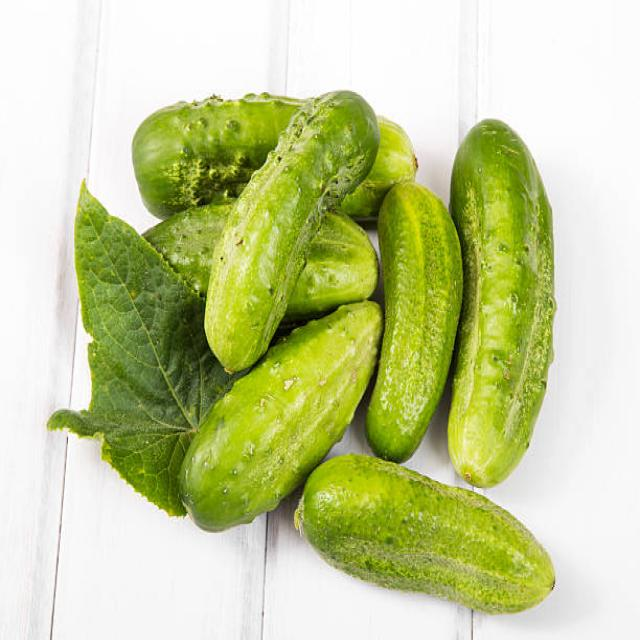cucumber: (205, 88, 379, 374), (178, 300, 384, 532), (449, 116, 555, 485), (300, 458, 556, 610), (366, 180, 464, 467)
